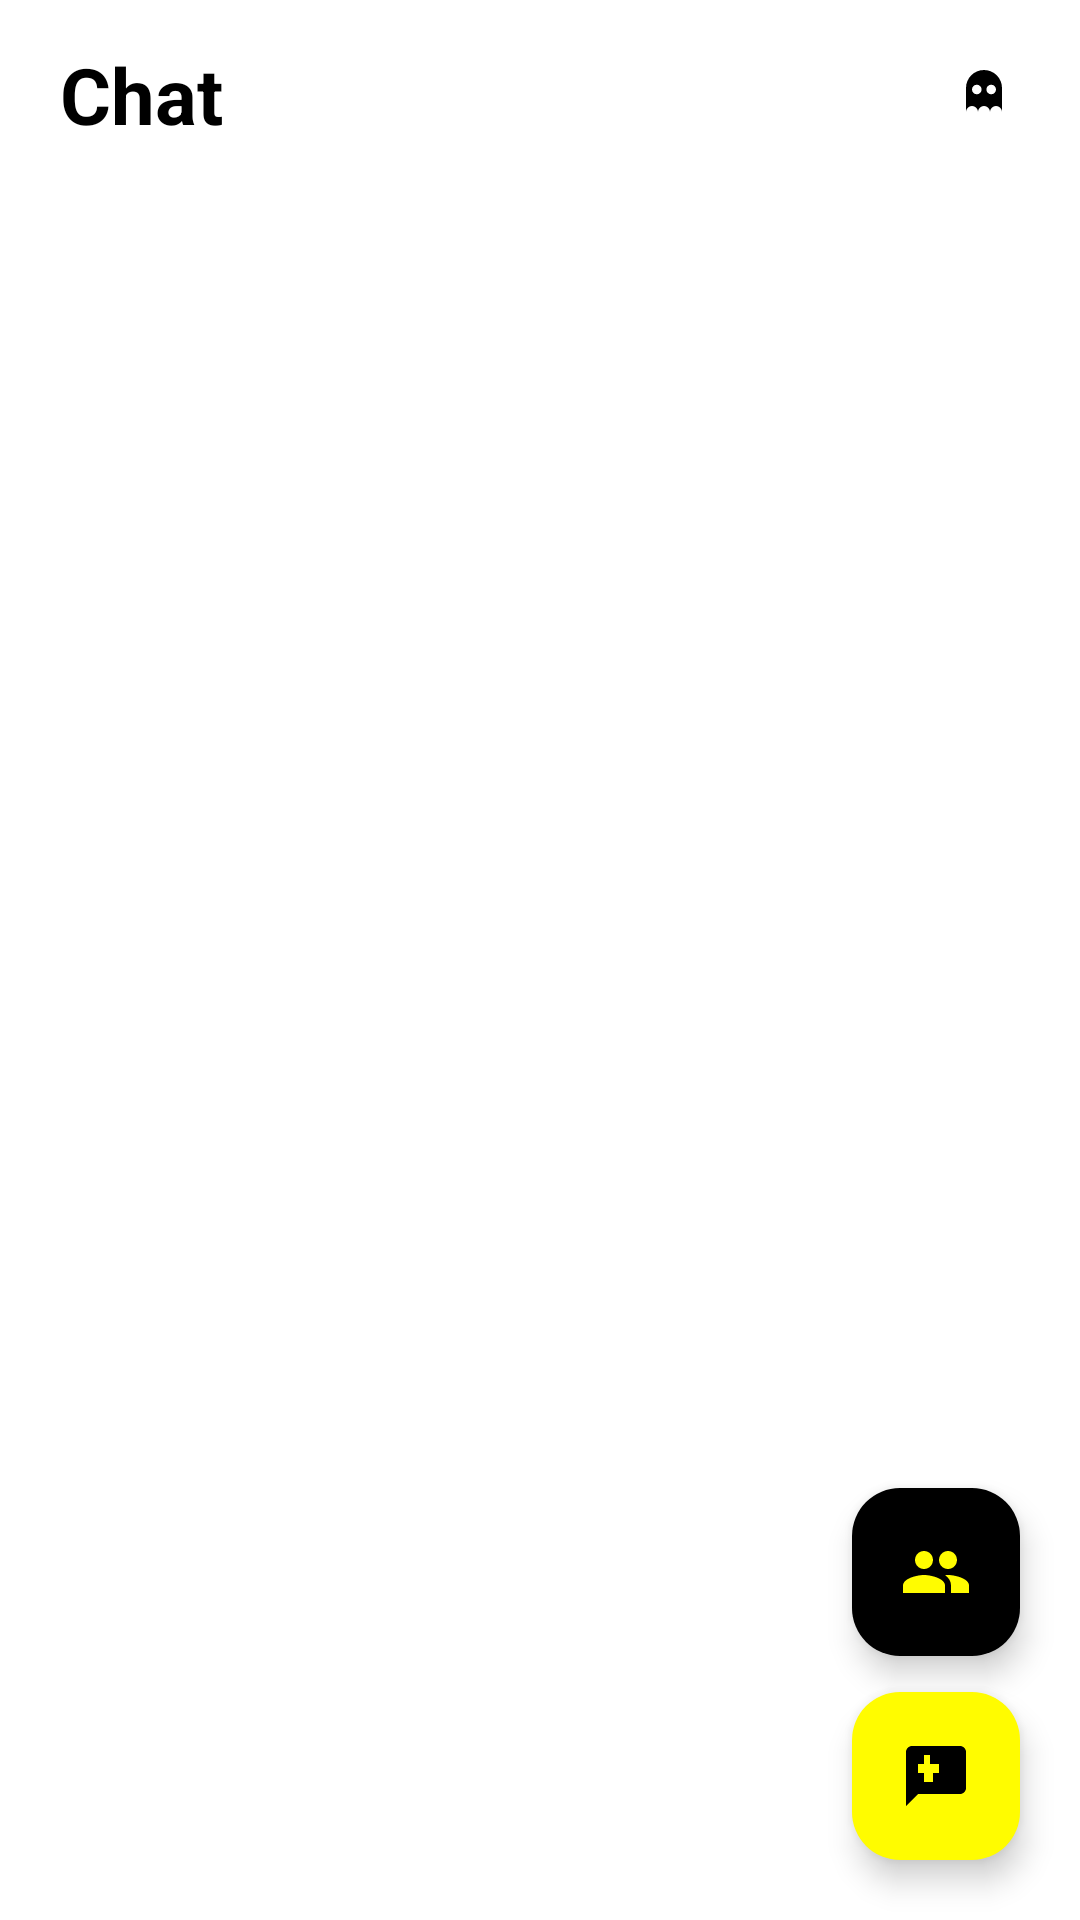

Screen size 1080 × 1920. Icon name, then its center in pixels as (x=x, y=y):
ghost: (x=984, y=90)
Nouveau groupe: (x=936, y=1572)
Nouvelle discussion: (x=936, y=1776)
